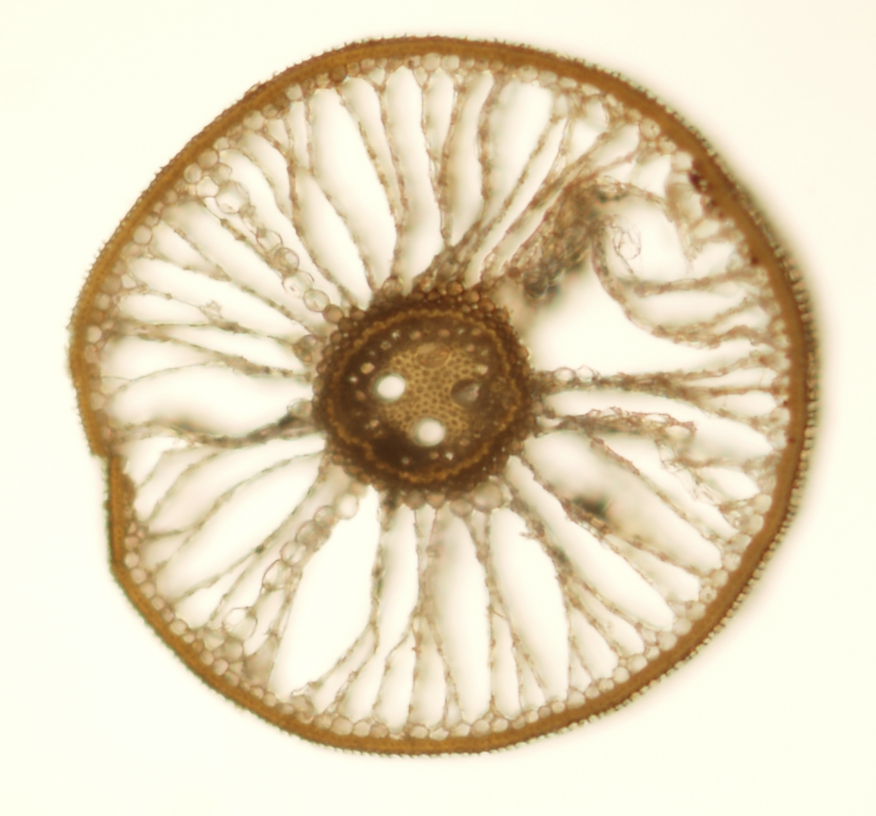lm: (416, 342, 452, 370), (451, 379, 487, 407), (412, 419, 445, 446), (377, 375, 405, 401)
